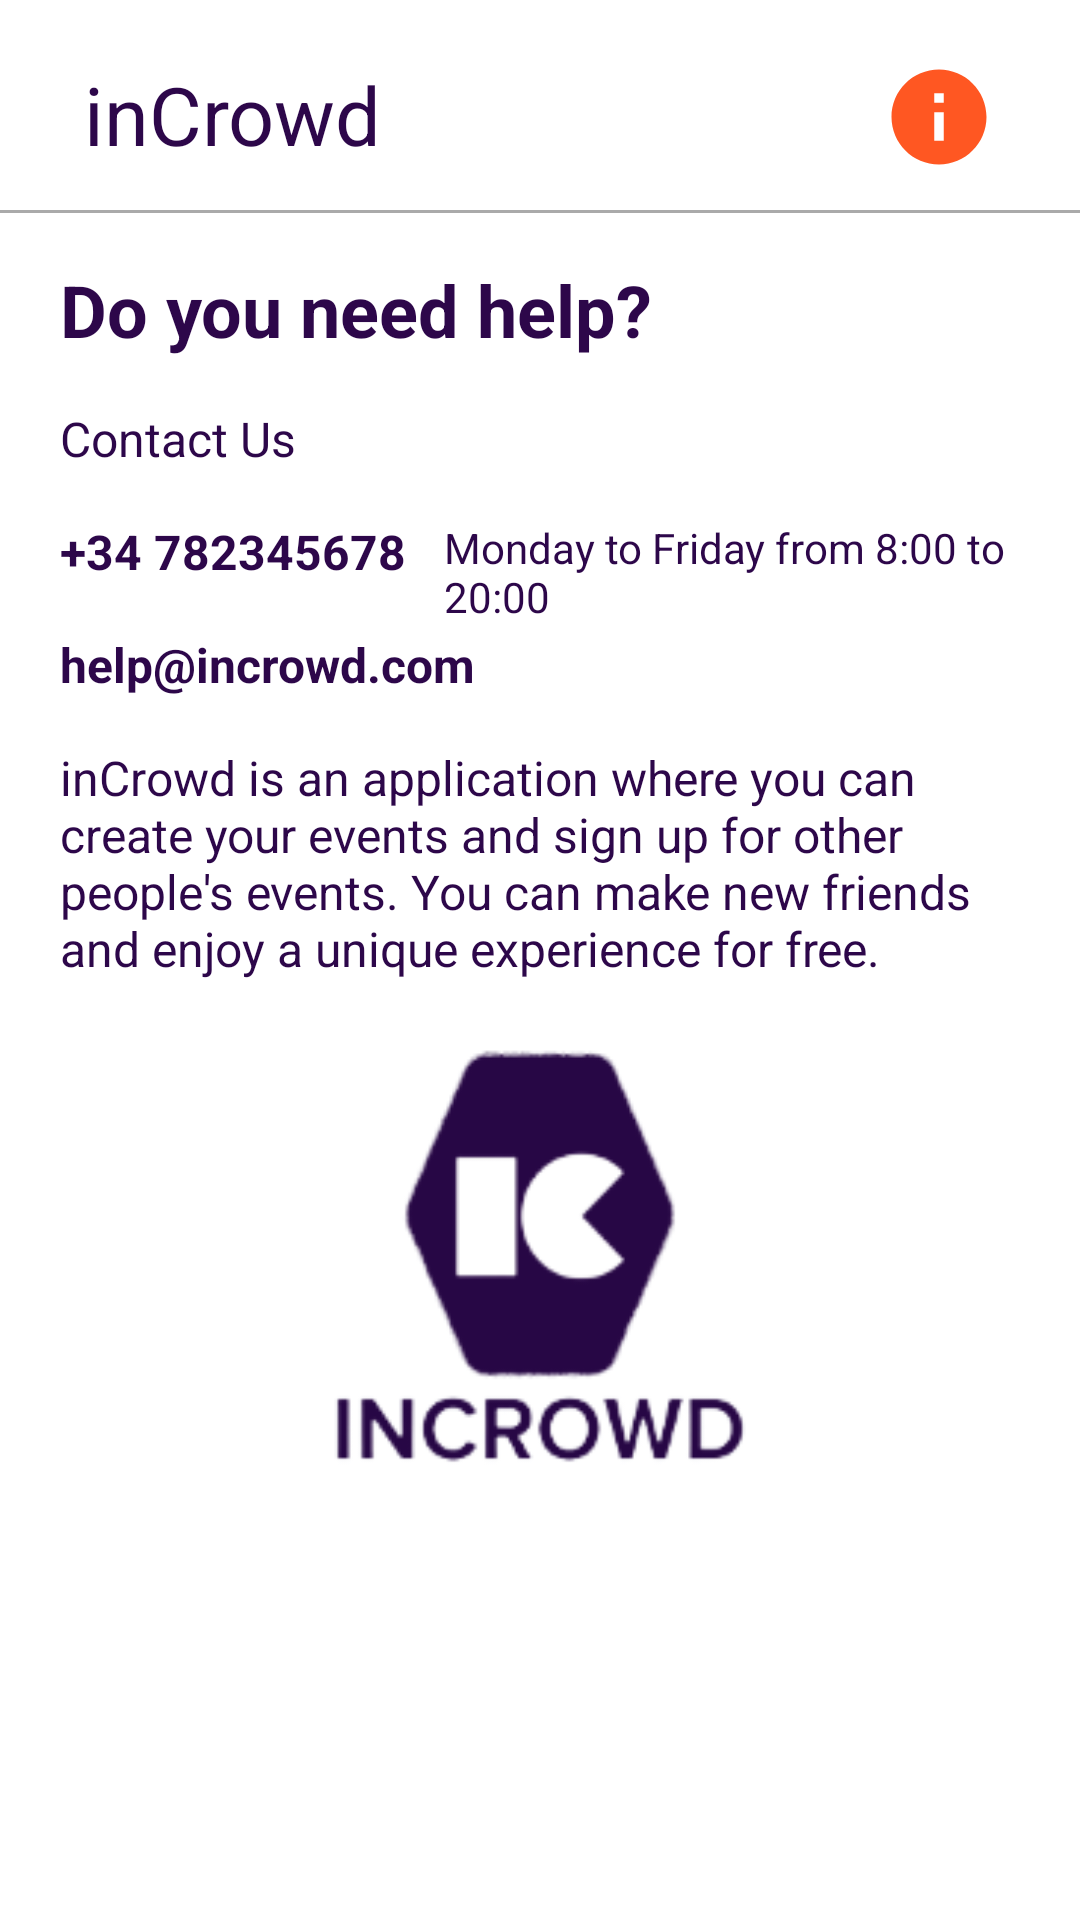

Point at icon controls on the screen. Image size 1080px x 1920px, points as [x,y].
info: [939,117]
